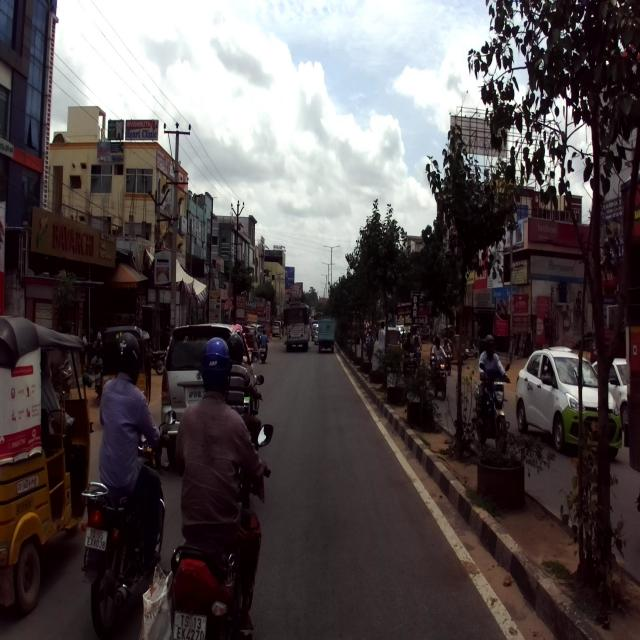Car_Hyundai: (515, 348, 622, 457)
Car_Toyota: (161, 324, 259, 468)
autorickshaw: (0, 315, 96, 616), (100, 326, 152, 419)
motorcycle_Hero: (81, 410, 176, 639)
motorcycle_Honda: (170, 422, 274, 640)
motorcycle_Yamaha: (471, 363, 510, 455)
